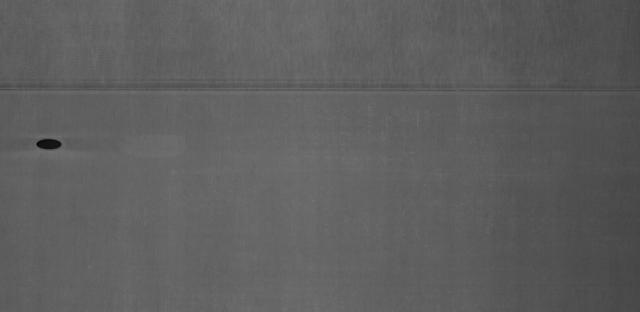punching_hole: (34, 134, 66, 153)
welding_line: (0, 79, 640, 103)
